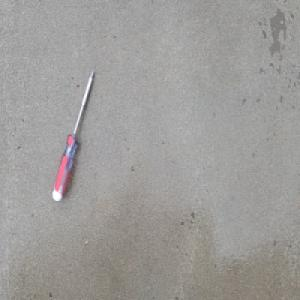Screwdriver: (50, 67, 95, 202)
